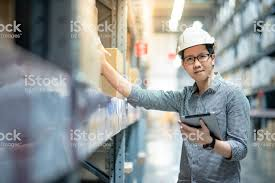Person_wearing_helmet: (172, 20, 216, 60)
